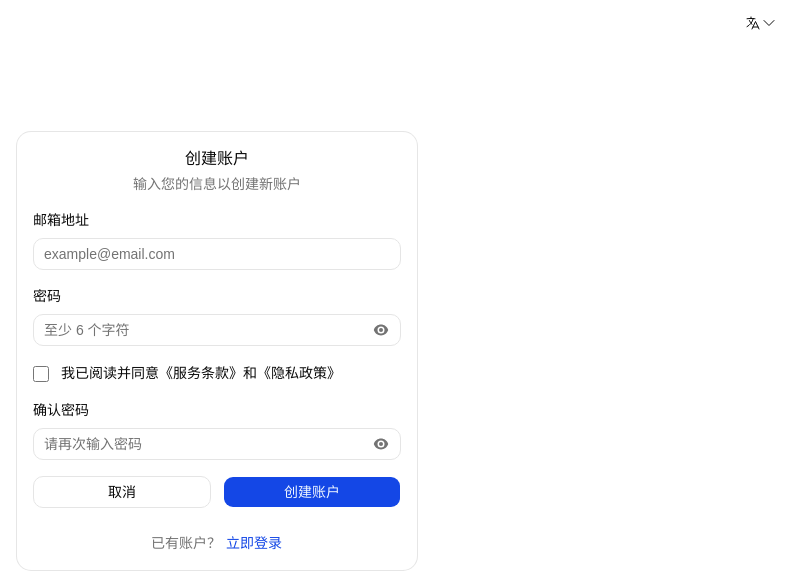
Scenario: SignUpPage › 用户交互 › 应该允许用户切换密码显示/隐藏
The width and height of the screenshot is (792, 588).
Step 1. Type "password123" into the password field labelled "密码" → (217, 330), box 33,314 -> 401,346
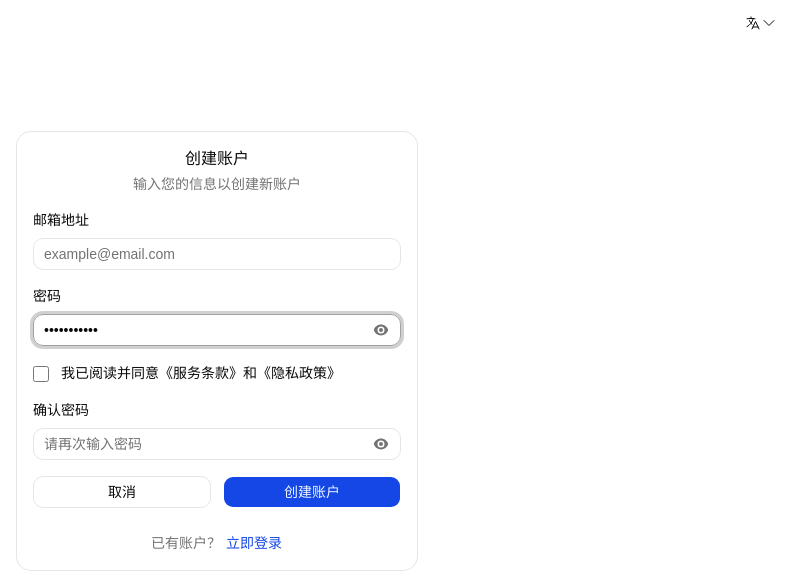
Step 2. Click the 1st button named "显示密码" → (381, 330), box 373,322 -> 389,338
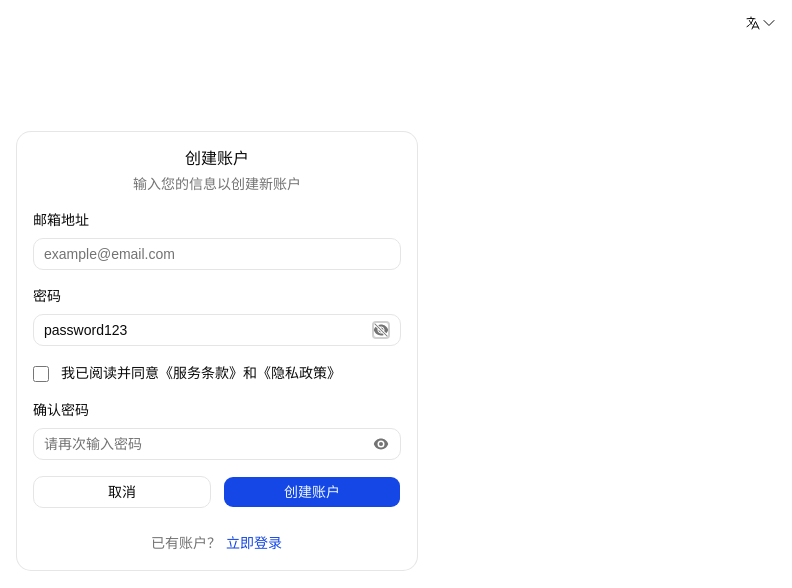
Now the button named "隐藏密码" is shown, box 373,322 -> 389,338
